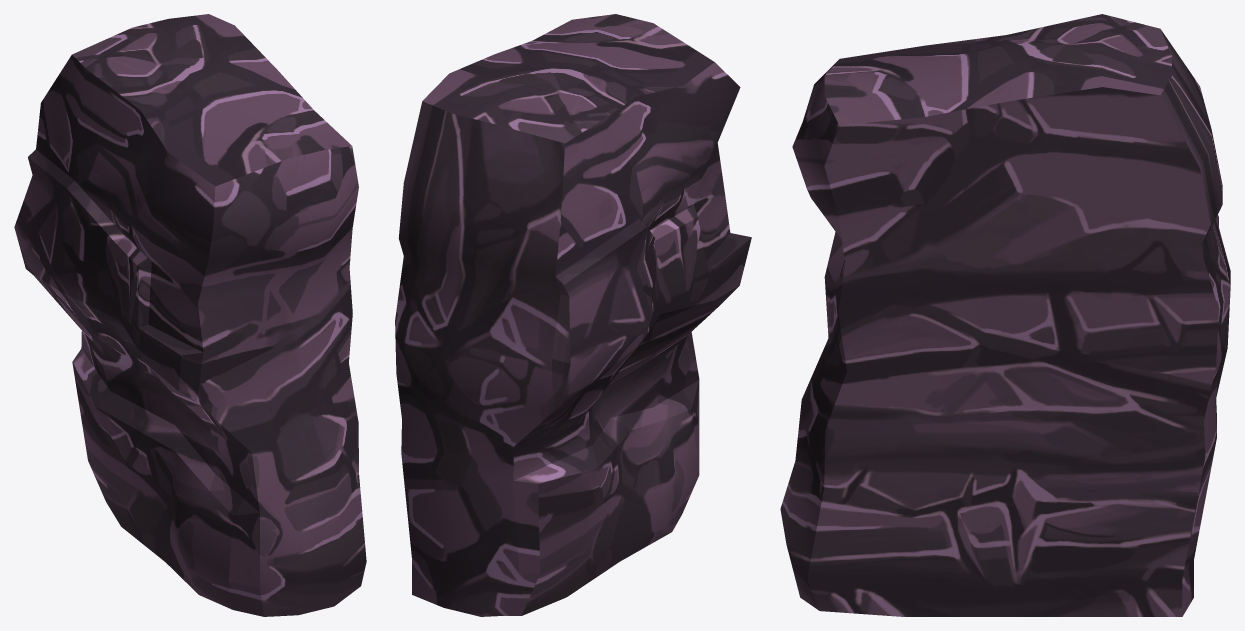
The model's file is tt_forest_left_cliff.FBX.
The picture shows the model from 3 angles, left to right: view 1: azimuth 30°, elevation 25°; view 2: azimuth 150°, elevation 25°; view 3: azimuth 270°, elevation 25°; orthographic projection. The views are drawn at different scales.
Visible parts, largest first — view 1: tt_forest_left_cliff; view 2: tt_forest_left_cliff; view 3: tt_forest_left_cliff.
Part boxes in pixels (x1=…): tt_forest_left_cliff: x1=14, y1=14, x2=366, y2=616; tt_forest_left_cliff: x1=395, y1=14, x2=751, y2=616; tt_forest_left_cliff: x1=780, y1=14, x2=1230, y2=616.
Size of the model in its own units: 381 by 923 by 706.
